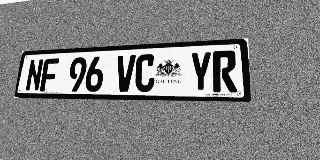6: (84, 56, 105, 92)
9: (67, 57, 87, 92)
C: (134, 54, 156, 92)
F: (40, 58, 59, 91)
N: (25, 59, 44, 91)
R: (213, 50, 237, 92)
V: (115, 55, 136, 92)
Y: (189, 51, 212, 92)
